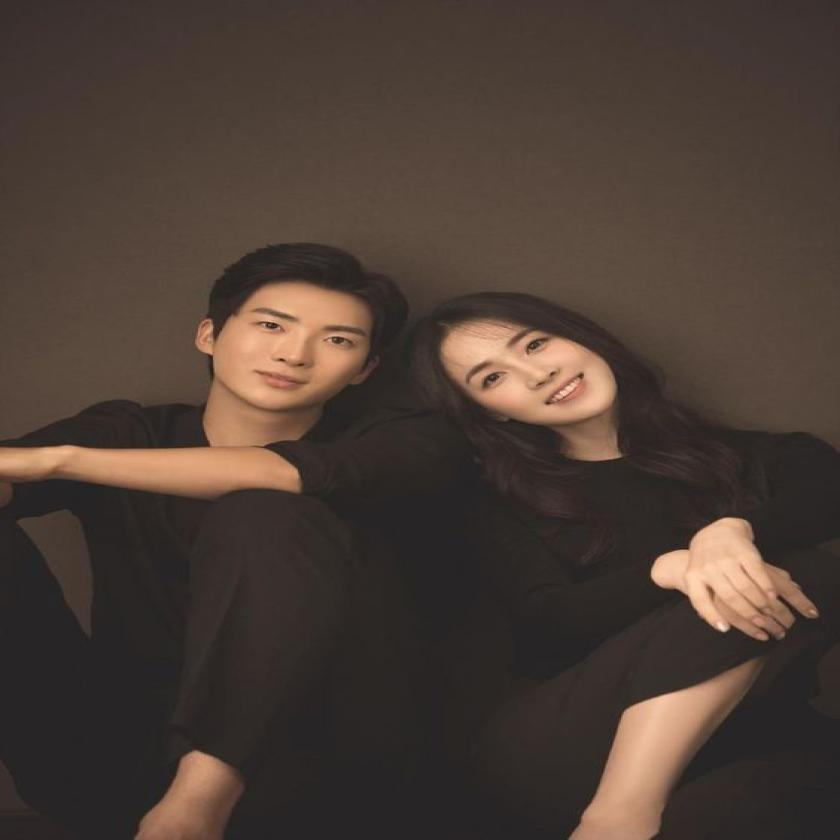Sin_casco: (200, 238, 414, 433), (428, 291, 654, 453)
